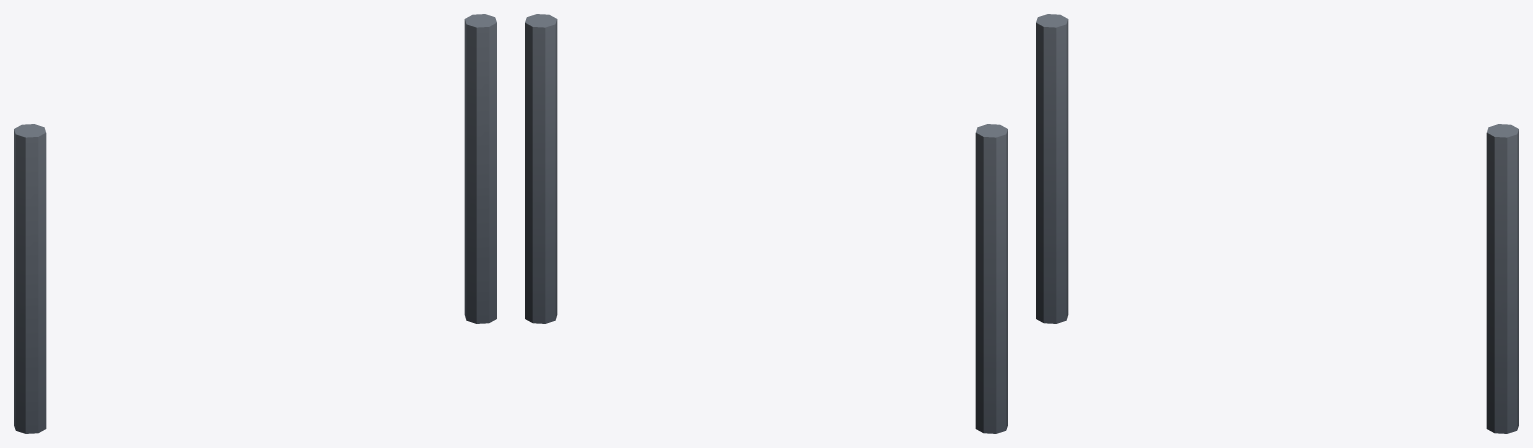
Rendered from Props-Panels_Blue-Panels_Blue.glb.
3 views of the same model, side by side, from view 1: azimuth 30°, elevation 25°; view 2: azimuth 150°, elevation 25°; view 3: azimuth 330°, elevation 25° (orthographic).
Visible parts, largest first — view 1: Props-Panels_Blue-Panels_Blue; view 2: Props-Panels_Blue-Panels_Blue; view 3: Props-Panels_Blue-Panels_Blue.
Part boxes in pixels (left/top/right/bottom): Props-Panels_Blue-Panels_Blue: left=14, top=14, right=496, bottom=433; Props-Panels_Blue-Panels_Blue: left=525, top=14, right=1007, bottom=433; Props-Panels_Blue-Panels_Blue: left=1036, top=14, right=1518, bottom=433.
Size of the model in its own units: 4.64 by 2.74 by 0.2793.
1 material, 1 textured.
